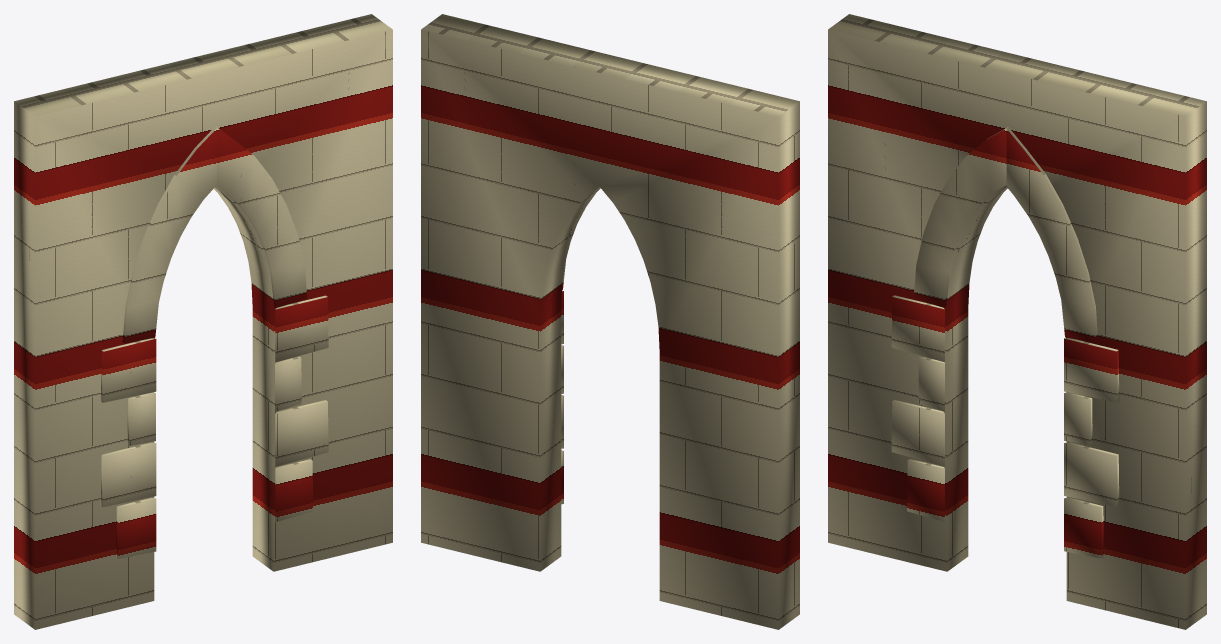
The model's file is theodosian limewall new stone door.glb.
3 renders of one model, left to right at view 1: azimuth 30°, elevation 25°; view 2: azimuth 150°, elevation 25°; view 3: azimuth 330°, elevation 25°, orthographic.
Parts seen in each view (by area): view 1: LimeWall_theodosian_limewall_new_stone_door_Pointed Arch Doo; view 2: LimeWall_theodosian_limewall_new_stone_door_Pointed Arch Doo; view 3: LimeWall_theodosian_limewall_new_stone_door_Pointed Arch Doo.
Part boxes in pixels (x1,y1,x2,y2): LimeWall_theodosian_limewall_new_stone_door_Pointed Arch Doo: (14,14,392,629); LimeWall_theodosian_limewall_new_stone_door_Pointed Arch Doo: (421,14,799,629); LimeWall_theodosian_limewall_new_stone_door_Pointed Arch Doo: (828,14,1206,629).
Size of the model in its own units: 2 by 2.74 by 0.225.
3 materials, 3 textured.
